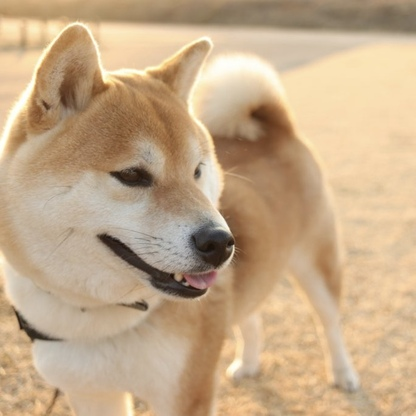shiba: (1, 17, 366, 416)
